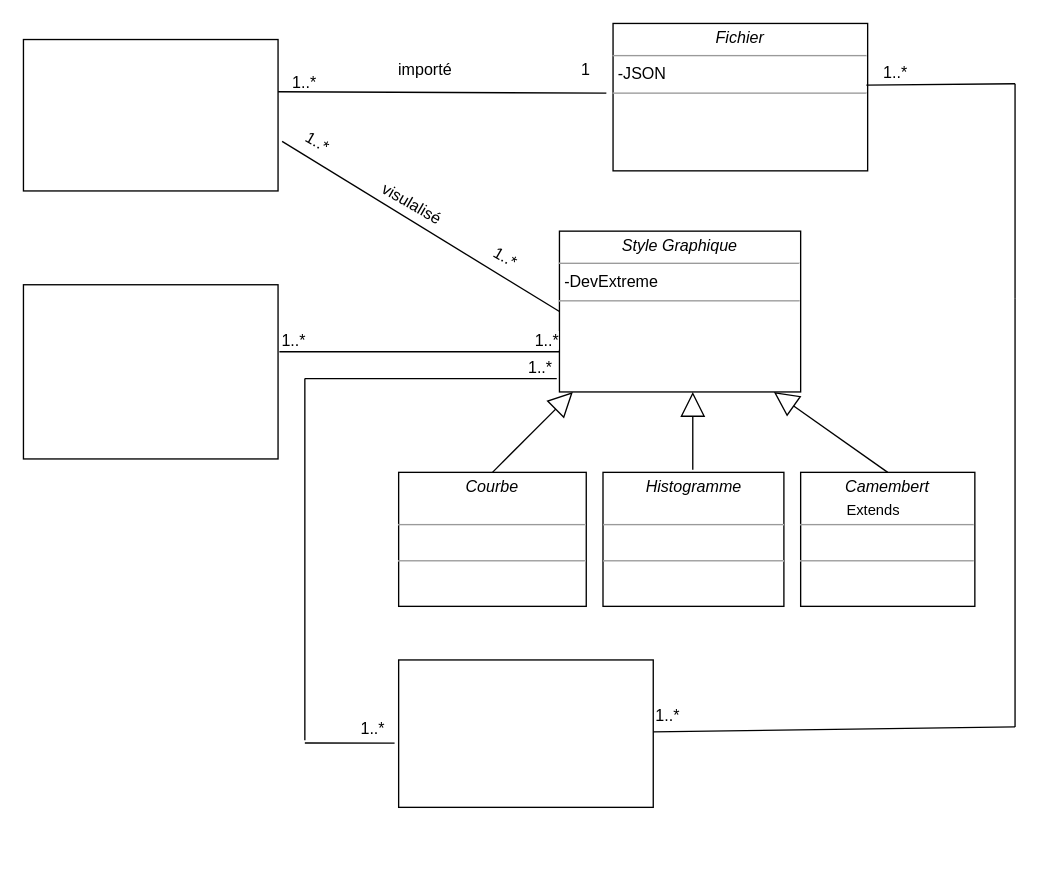
This 1052x884 diagram has some shape labels left out. Each missing label, with the centre of its shape:
Développeur -composants + intégrer() +manipuler(): point 150,371
Grille +afficher les données () +trier() +filtrer (): point 525,733
Utilisateur Final +importer depuis PC() +importer depuis URL () +visualiser (): point 150,114
